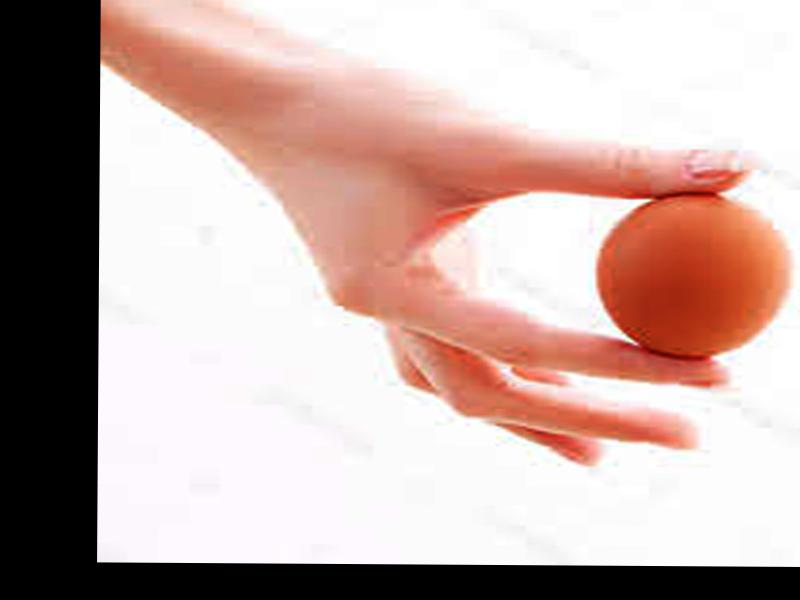Eggs: (600, 190, 788, 360)
